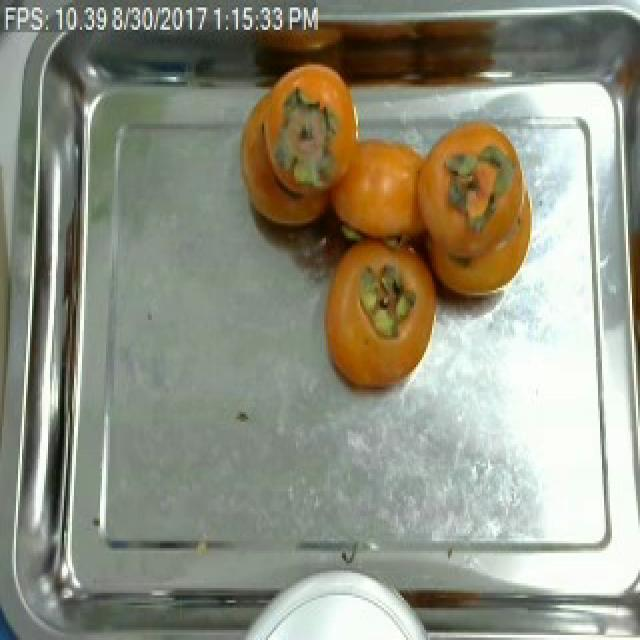Fruit: (314, 223, 444, 410)
